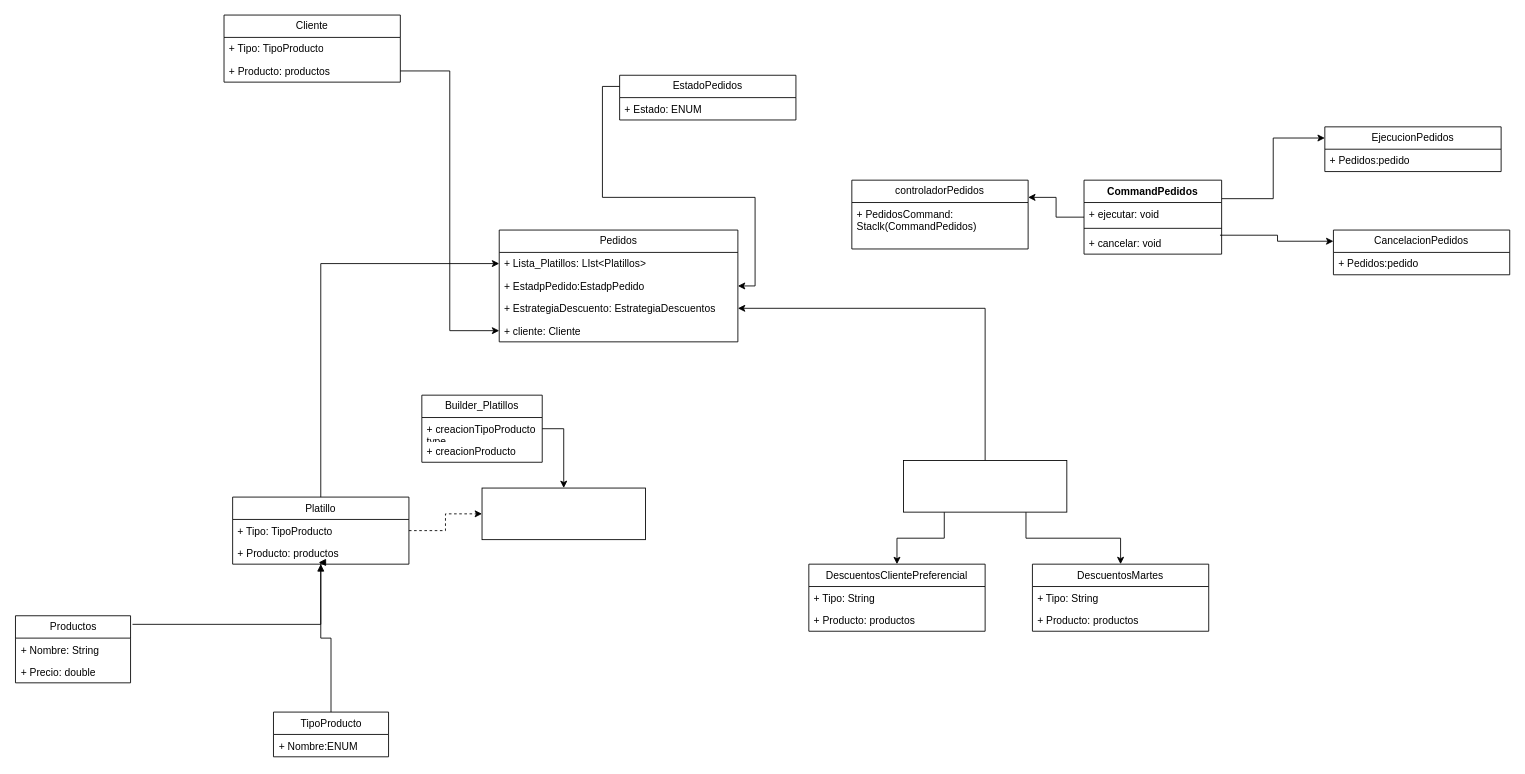
Image size: 1525x774. Some labels were removed from this diagram. Each missing label, with the centre of its shape:
EstrategiaDescuentoInterface: [985,486]
PlatillosBuilderInterface: [563,513]
